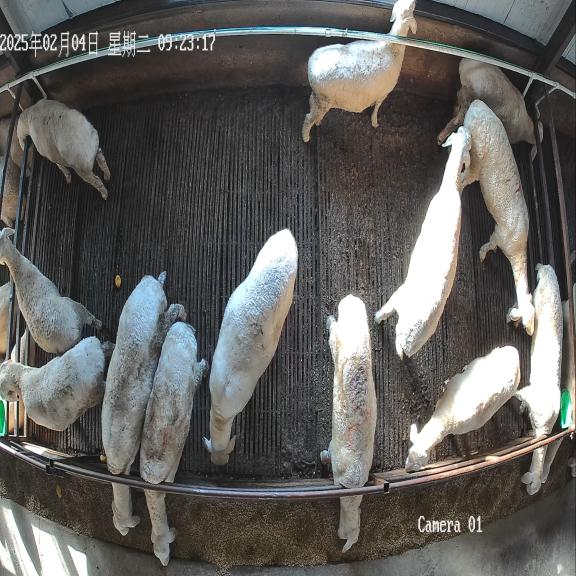drinking: (437, 58, 543, 161), (16, 99, 110, 199)
eating: (101, 272, 185, 535), (140, 321, 206, 566), (320, 294, 376, 552), (516, 264, 563, 495)
stand: (375, 126, 472, 359), (203, 229, 298, 465), (460, 99, 535, 335), (303, 0, 417, 142), (405, 346, 520, 472), (0, 228, 102, 355), (0, 337, 109, 431)
